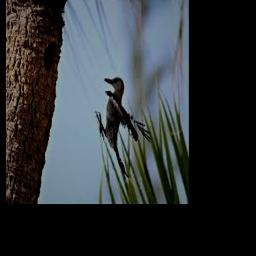Woodpecker: (95, 78, 152, 177)
